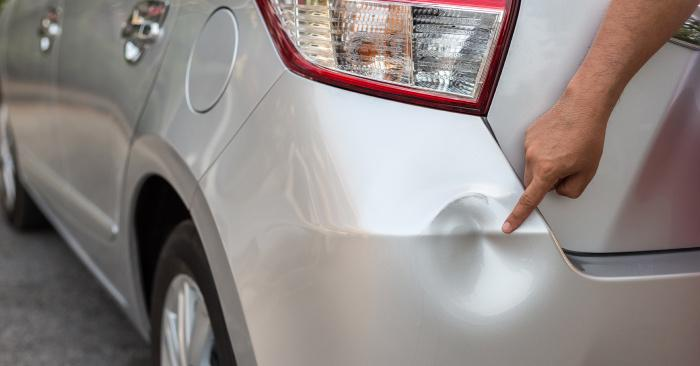dent: (423, 186, 563, 329)
